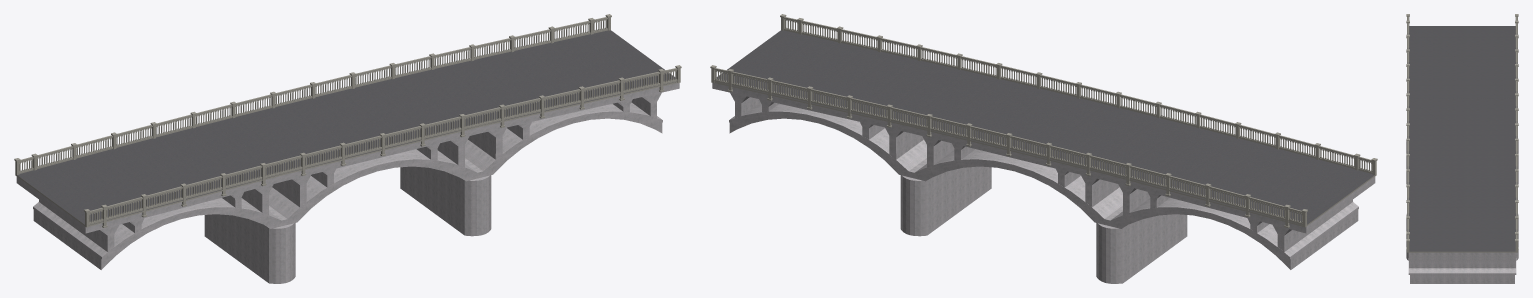
File: qiao9.FBX
3 views of the same model, side by side, from view 1: azimuth 30°, elevation 25°; view 2: azimuth 150°, elevation 25°; view 3: azimuth 270°, elevation 25° (orthographic). The views are drawn at different scales.
Visible parts, largest first — view 1: qiao9; view 2: qiao9; view 3: qiao9.
Part boxes in pixels (x1,y1,x2,y2): qiao9: (14, 14, 681, 283); qiao9: (710, 14, 1377, 283); qiao9: (1406, 14, 1518, 283).
Bounding box in the file's own units: 8486 × 1690 × 1780.
Materials: 3 (3 with a texture image).
